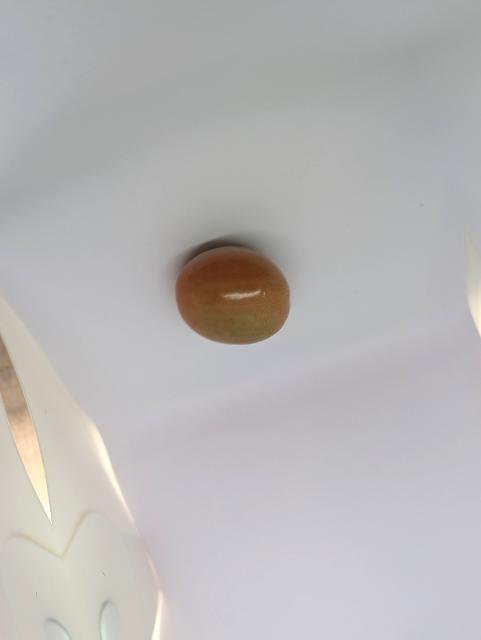turning: (157, 243, 300, 354)
